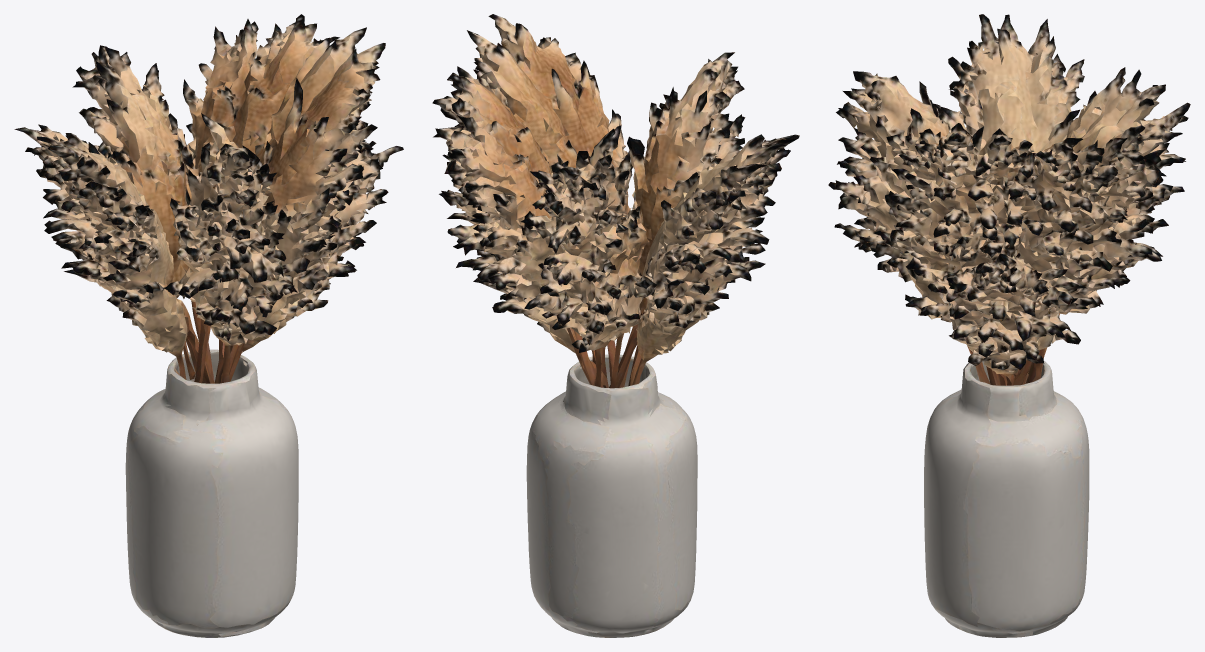
The model's file is L_VASE.glb.
3 views of the same model, side by side, from view 1: azimuth 30°, elevation 25°; view 2: azimuth 150°, elevation 25°; view 3: azimuth 270°, elevation 25° (orthographic).
Parts seen in each view (by area): view 1: world; view 2: world; view 3: world.
Boxes of the visible parts, left/top/right/bottom form: world: left=14, top=14, right=403, bottom=637; world: left=432, top=14, right=799, bottom=637; world: left=828, top=14, right=1190, bottom=637.
Bounding box in the file's own units: 0.4073 × 0.6 × 0.3602.
Materials: 1 (1 with a texture image).
